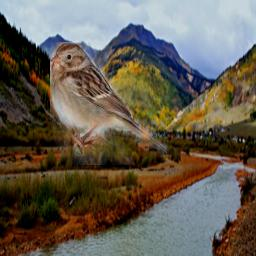Sparrow: (50, 42, 180, 165)
